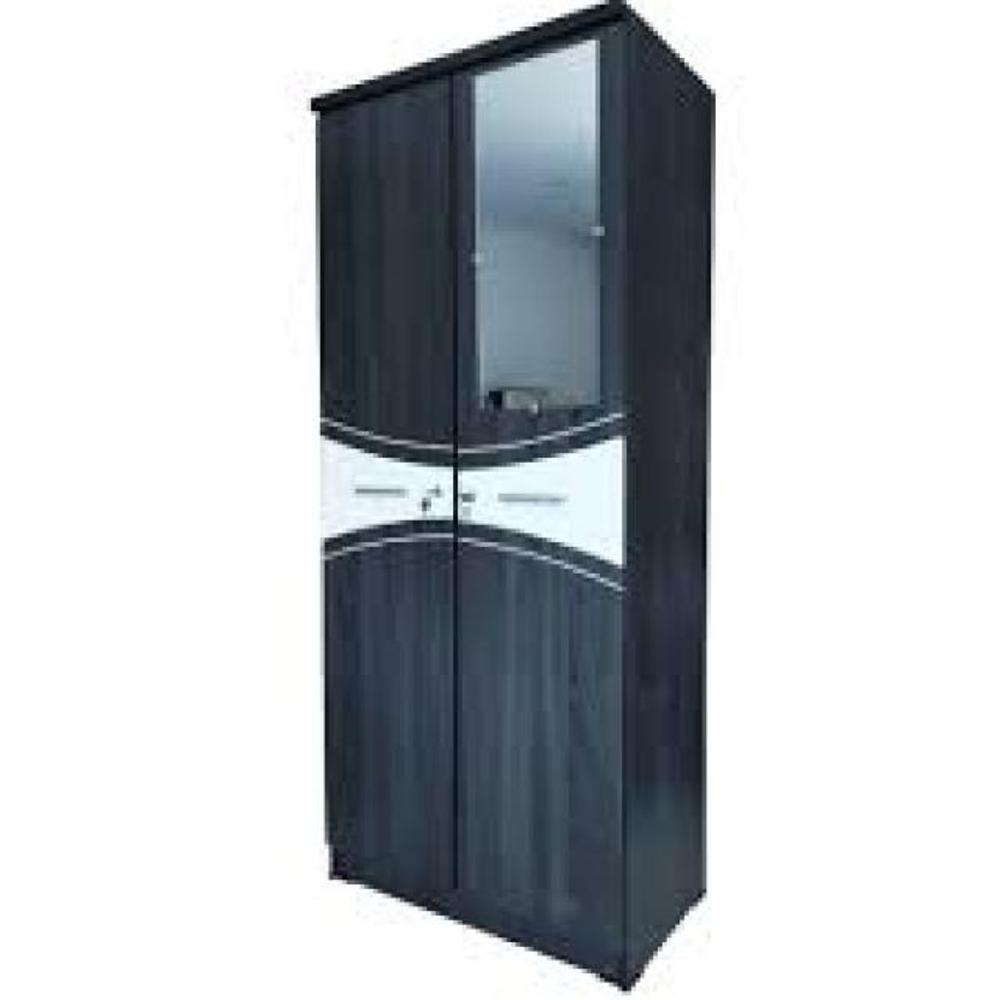cabinet: (316, 6, 714, 996)
